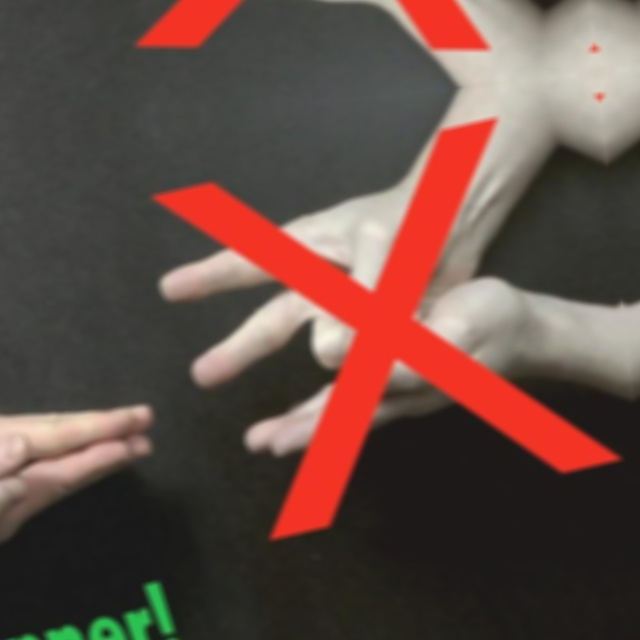Paper: (0, 336, 167, 508)
Scissors: (137, 165, 509, 400)
